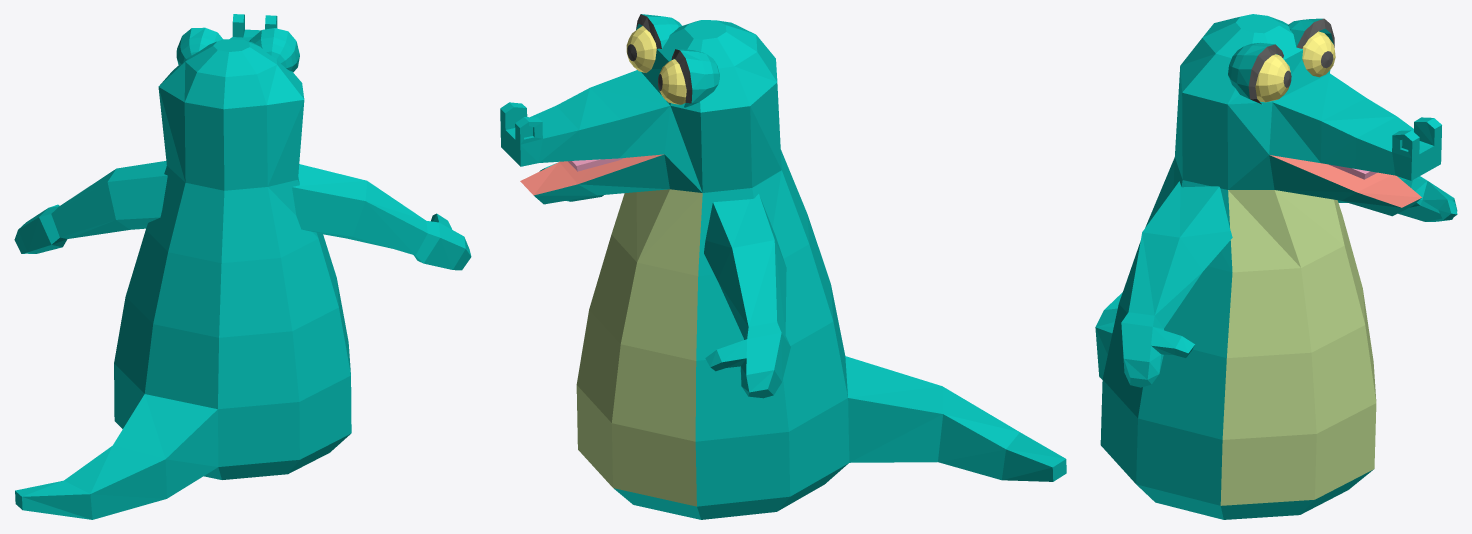
Rendered from Alligator.glb.
The picture shows the model from 3 angles, left to right: view 1: azimuth 30°, elevation 25°; view 2: azimuth 150°, elevation 25°; view 3: azimuth 270°, elevation 25°; orthographic projection. The views are drawn at different scales.
Visible parts, largest first — view 1: group1931183719, group351468779, group1082798037, group1023753803, group1474648215; view 2: group1931183719, group1082798037, group1474648215, group1969305573, group1946848519, group1023753803; view 3: group1931183719, group351468779, group1023753803, group1082798037, group1969305573, group1946848519, group1474648215.
Boxes of the visible parts, box(x1,y1,x2,y2) form: group1931183719: box(15, 14, 351, 519); group351468779: box(292, 164, 471, 270); group1082798037: box(14, 161, 167, 253); group1023753803: box(249, 28, 299, 72); group1474648215: box(176, 27, 222, 65); group1931183719: box(500, 20, 1066, 519); group1082798037: box(704, 194, 790, 398); group1474648215: box(671, 49, 719, 107); group1969305573: box(626, 26, 656, 72); group1946848519: box(658, 59, 686, 104); group1023753803: box(636, 14, 681, 48); group1931183719: box(1095, 14, 1441, 519); group351468779: box(1121, 181, 1232, 387); group1023753803: box(1228, 42, 1283, 104); group1082798037: box(1338, 176, 1457, 221); group1969305573: box(1255, 54, 1291, 102); group1946848519: box(1302, 31, 1335, 77); group1474648215: box(1288, 18, 1334, 48).
Size of the model in its own units: 1.29 by 1.07 by 0.7719.
